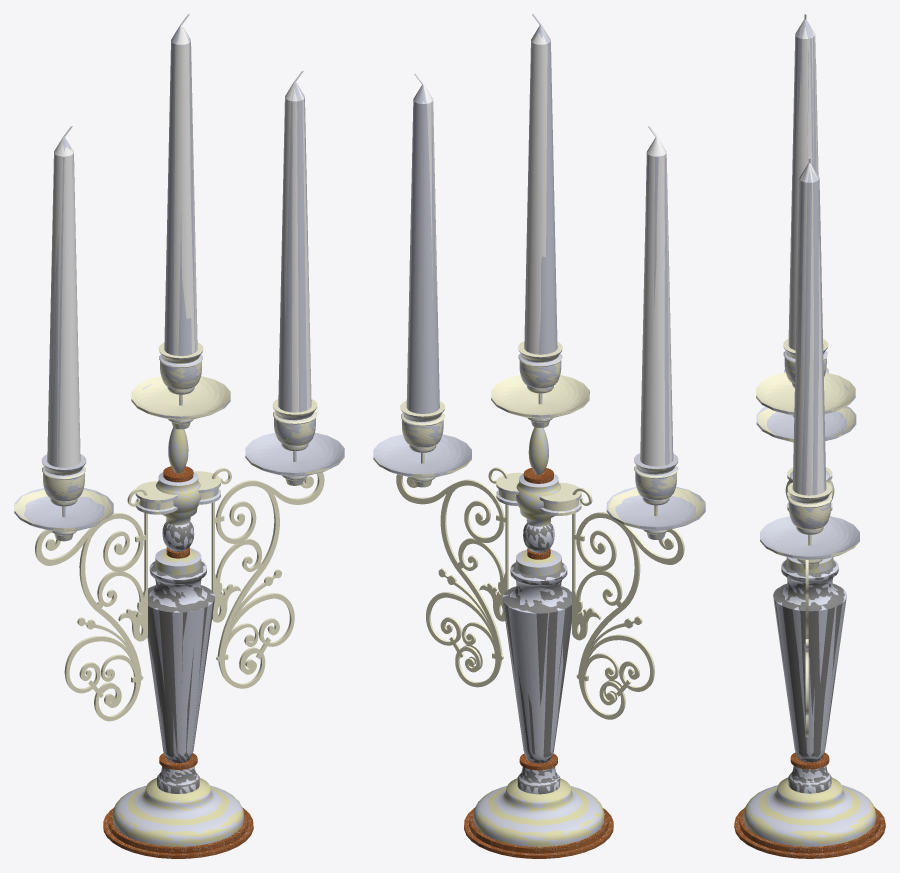
The model's file is Candelabro-tridente-con-3-velas.glb.
3 views of the same model, side by side, from view 1: azimuth 30°, elevation 25°; view 2: azimuth 150°, elevation 25°; view 3: azimuth 270°, elevation 25° (orthographic).
Visible parts, largest first — view 1: SketchUp.001, SketchUp.005, SketchUp.003, SketchUp.013, SketchUp; view 2: SketchUp.001, SketchUp.005, SketchUp.003, SketchUp.013, SketchUp; view 3: SketchUp.001, SketchUp.003, SketchUp.005, SketchUp.013, SketchUp.
Part boxes in pixels (x1,y1,x2,y2): SketchUp.001: [14, 14, 344, 846]; SketchUp.005: [14, 342, 344, 721]; SketchUp.003: [47, 14, 311, 467]; SketchUp.013: [113, 429, 243, 846]; SketchUp: [103, 466, 253, 858]; SketchUp.001: [373, 14, 705, 846]; SketchUp.005: [373, 341, 705, 719]; SketchUp.003: [406, 14, 672, 466]; SketchUp.013: [473, 427, 604, 846]; SketchUp: [464, 468, 613, 858]; SketchUp.001: [744, 14, 876, 846]; SketchUp.003: [788, 14, 824, 495]; SketchUp.005: [756, 339, 856, 736]; SketchUp.013: [743, 476, 875, 846]; SketchUp: [734, 752, 885, 858].
Size of the model in its own units: 0.2837 by 0.6884 by 0.1156.
7 materials, 1 textured.
